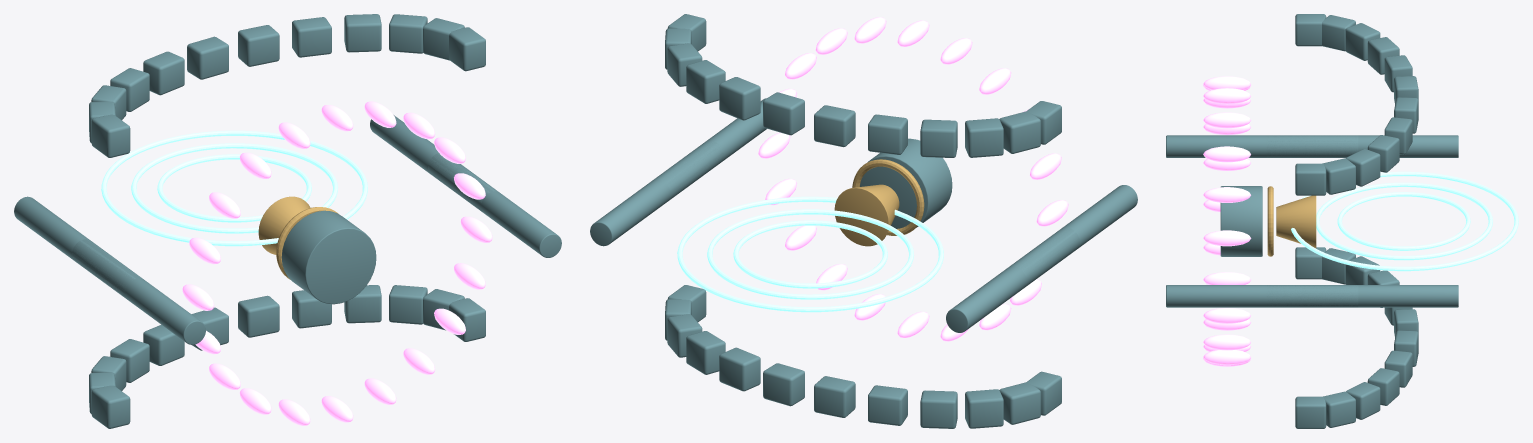
The model's file is sea_chamber.glb.
3 renders of one model, left to right at view 1: azimuth 30°, elevation 25°; view 2: azimuth 150°, elevation 25°; view 3: azimuth 270°, elevation 25°, orthographic. The views are drawn at different scales.
Visible parts, largest first — view 1: BellPedestal, Pillar, Pillar.002, Torus.003, Pillar.001, Torus.002, Pillar.003, Torus.001, ArchStone.005, ArchStone.018, ArchStone.017, ArchStone.016 (+39 smaller); view 2: BellPedestal, Pillar.001, Pillar.003, Torus.003, Pillar, Pillar.002, Torus.002, Bell, Torus.001, ArchStone.017, ArchStone.005, ArchStone.018 (+33 smaller); view 3: Pillar.002, Pillar, Pillar.003, Pillar.001, BellPedestal, Torus.003, Torus.002, Bell, Torus.001, ArchStone.012, ArchStone, ArchStone.001 (+34 smaller).
Boxes of the visible parts, x1=… form: BellPedestal: x1=281, y1=210, x2=376, y2=304; Pillar: x1=72, y1=239, x2=205, y2=344; Pillar.002: x1=428, y1=153, x2=561, y2=257; Torus.003: x1=101, y1=130, x2=367, y2=246; Pillar.001: x1=14, y1=196, x2=141, y2=297; Torus.002: x1=131, y1=143, x2=338, y2=233; Pillar.003: x1=370, y1=115, x2=499, y2=212; Torus.001: x1=157, y1=154, x2=311, y2=222; ArchStone.005: x1=238, y1=295, x2=279, y2=337; ArchStone.018: x1=187, y1=36, x2=228, y2=79; ArchStone.017: x1=238, y1=25, x2=279, y2=66; ArchStone.016: x1=292, y1=17, x2=331, y2=57; BellPedestal: x1=860, y1=138, x2=952, y2=228; Pillar.001: x1=946, y1=228, x2=1079, y2=332; Pillar.003: x1=590, y1=141, x2=723, y2=246; Torus.003: x1=677, y1=196, x2=943, y2=312; Pillar: x1=1009, y1=185, x2=1137, y2=279; Pillar.002: x1=654, y1=98, x2=766, y2=199; Torus.002: x1=707, y1=209, x2=914, y2=299; Bell: x1=834, y1=184, x2=899, y2=246; Torus.001: x1=733, y1=220, x2=887, y2=288; ArchStone.017: x1=763, y1=92, x2=804, y2=135; ArchStone.005: x1=763, y1=363, x2=804, y2=406; ArchStone.018: x1=814, y1=105, x2=855, y2=147; Pillar.002: x1=1166, y1=285, x2=1358, y2=307; Pillar: x1=1166, y1=135, x2=1358, y2=157; Pillar.003: x1=1267, y1=285, x2=1458, y2=307; Pillar.001: x1=1266, y1=135, x2=1458, y2=157; BellPedestal: x1=1220, y1=186, x2=1262, y2=256; Torus.003: x1=1291, y1=171, x2=1518, y2=271; Torus.002: x1=1316, y1=182, x2=1492, y2=260; Bell: x1=1276, y1=195, x2=1316, y2=248; Torus.001: x1=1337, y1=192, x2=1470, y2=250; ArchStone.012: x1=1295, y1=163, x2=1326, y2=195; ArchStone: x1=1295, y1=396, x2=1326, y2=428; ArchStone.001: x1=1322, y1=391, x2=1355, y2=427.
Bounding box in the file's own units: 11.7 × 9.1 × 10.97.
